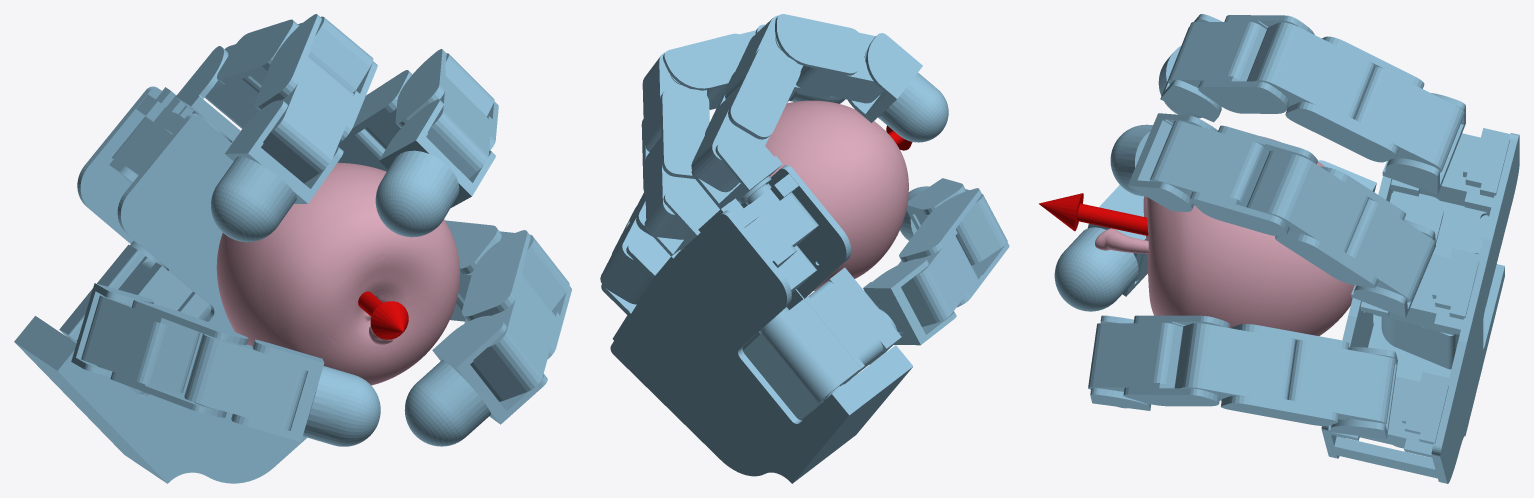
3 views of the same model, side by side, from view 1: azimuth 30°, elevation 25°; view 2: azimuth 150°, elevation 25°; view 3: azimuth 270°, elevation 25° (orthographic). The views are drawn at different scales.
Parts seen in each view (by area): view 1: world, apple.stl; view 2: world, apple.stl; view 3: world, apple.stl.
Part boxes in pixels (bbox=[...]): world: bbox=[14, 14, 571, 483]; apple.stl: bbox=[216, 162, 459, 385]; world: bbox=[600, 14, 1009, 483]; apple.stl: bbox=[765, 100, 908, 290]; world: bbox=[1039, 14, 1519, 483]; apple.stl: bbox=[1095, 136, 1354, 335].
Size of the model in its own units: 0.1614 by 0.1768 by 0.1609.
